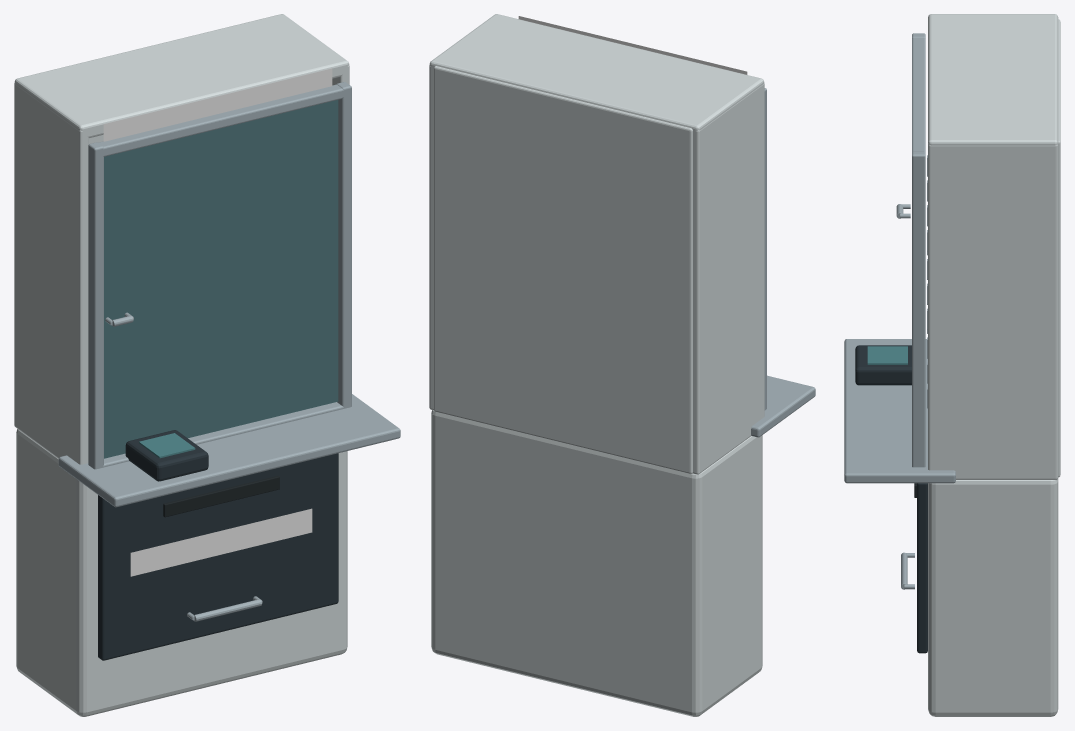
The model's file is SR_CredentialStation.fbx.
The picture shows the model from 3 angles, left to right: view 1: azimuth 30°, elevation 25°; view 2: azimuth 150°, elevation 25°; view 3: azimuth 270°, elevation 25°; orthographic projection. The views are drawn at different scales.
Visible parts, largest first — view 1: SR_CredentialStation; view 2: SR_CredentialStation; view 3: SR_CredentialStation.
Part boxes in pixels (box(x1,y1,x2,y2)): SR_CredentialStation: box(14, 14, 400, 716); SR_CredentialStation: box(429, 14, 815, 716); SR_CredentialStation: box(844, 14, 1060, 716).
Size of the model in its own units: 104 by 206 by 69.75.
